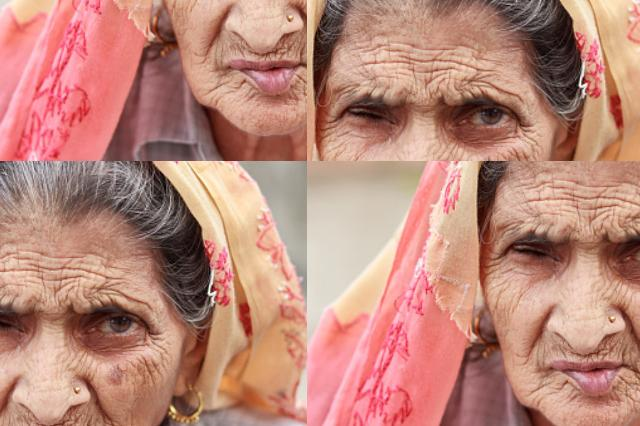bunny_line: (598, 280, 628, 306)
chin: (621, 389, 640, 414), (562, 379, 578, 404)
crows_feet: (124, 103, 170, 159), (486, 250, 509, 272)
forehead: (576, 184, 616, 216), (531, 173, 573, 203), (624, 196, 640, 224)
frown_line: (260, 15, 307, 66), (570, 219, 606, 244)
gummy_smile: (623, 312, 640, 350), (530, 314, 546, 354)
masseter: (492, 290, 510, 322)
sad_smile: (530, 375, 554, 395), (627, 363, 640, 384)
smoker_lines: (553, 340, 575, 360), (597, 340, 615, 360)
